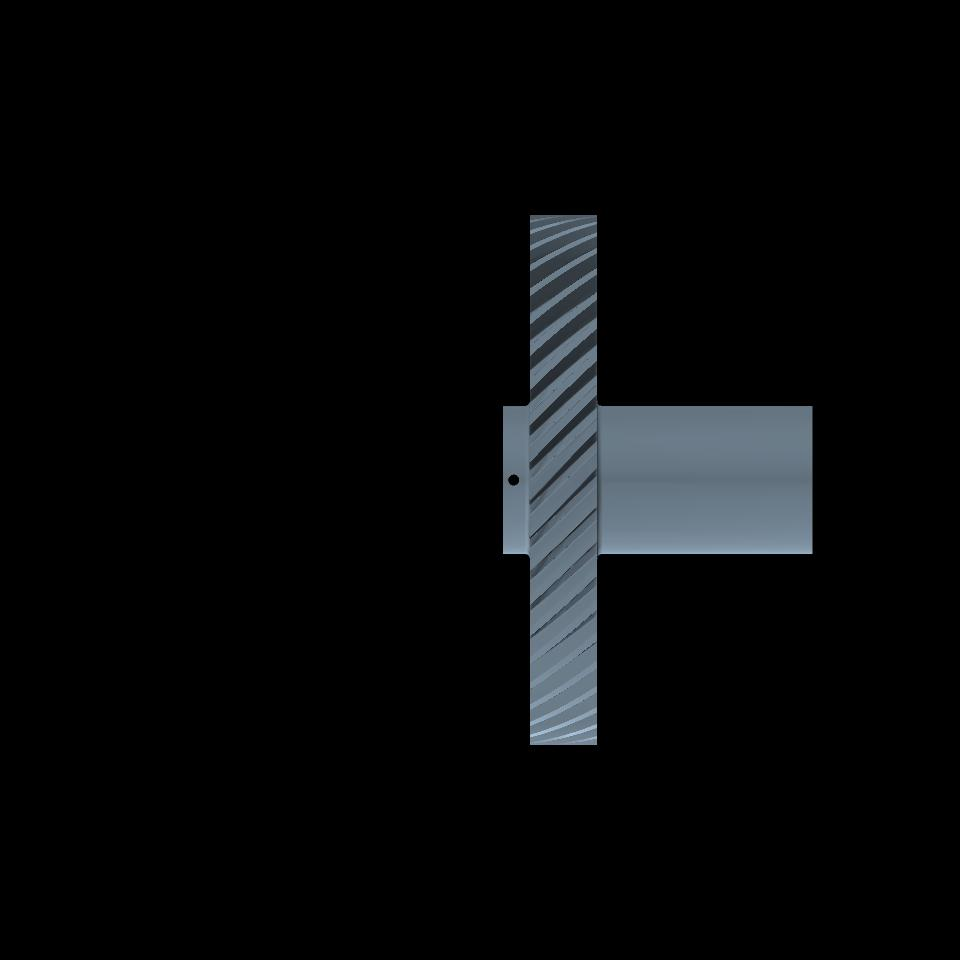Helical: (530, 215, 597, 744)
